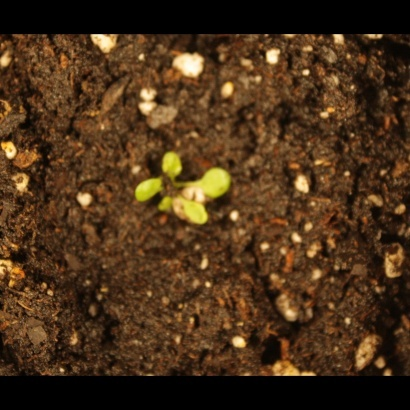leaf: (194, 166, 236, 203), (131, 178, 165, 206), (157, 149, 185, 182), (180, 201, 211, 229), (154, 195, 177, 219)
